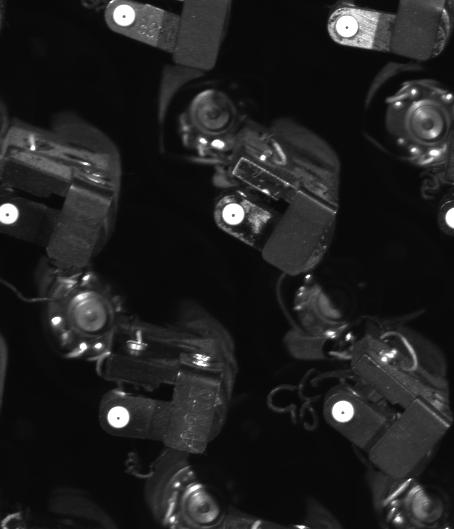fiber: (214, 196, 255, 231), (324, 396, 364, 429), (101, 401, 141, 433), (333, 13, 362, 42), (1, 195, 23, 230), (112, 3, 139, 29), (441, 201, 454, 231)
